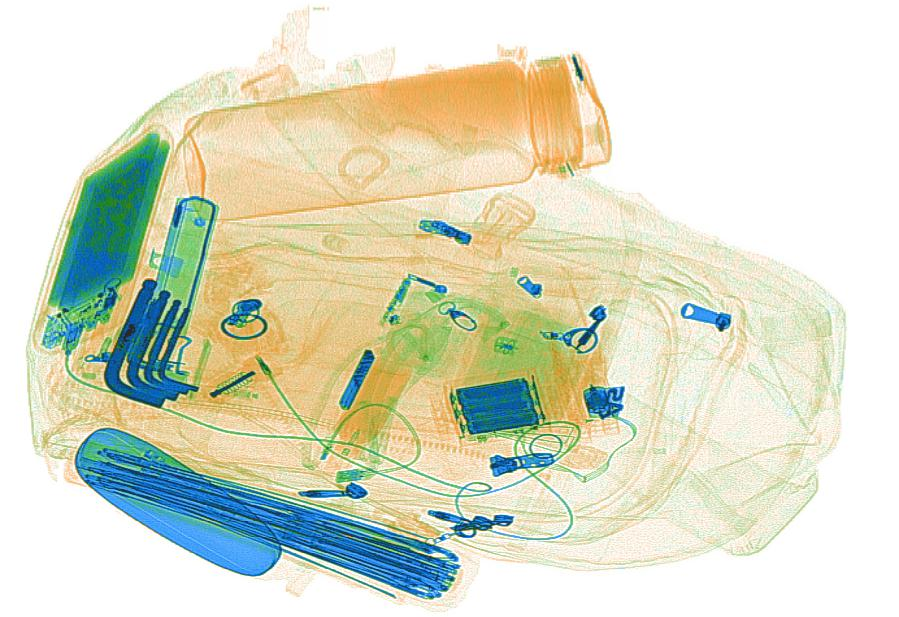battery: (453, 375, 541, 438), (337, 346, 377, 413)
plasticBottleWithaNozzle: (320, 353, 412, 488)
